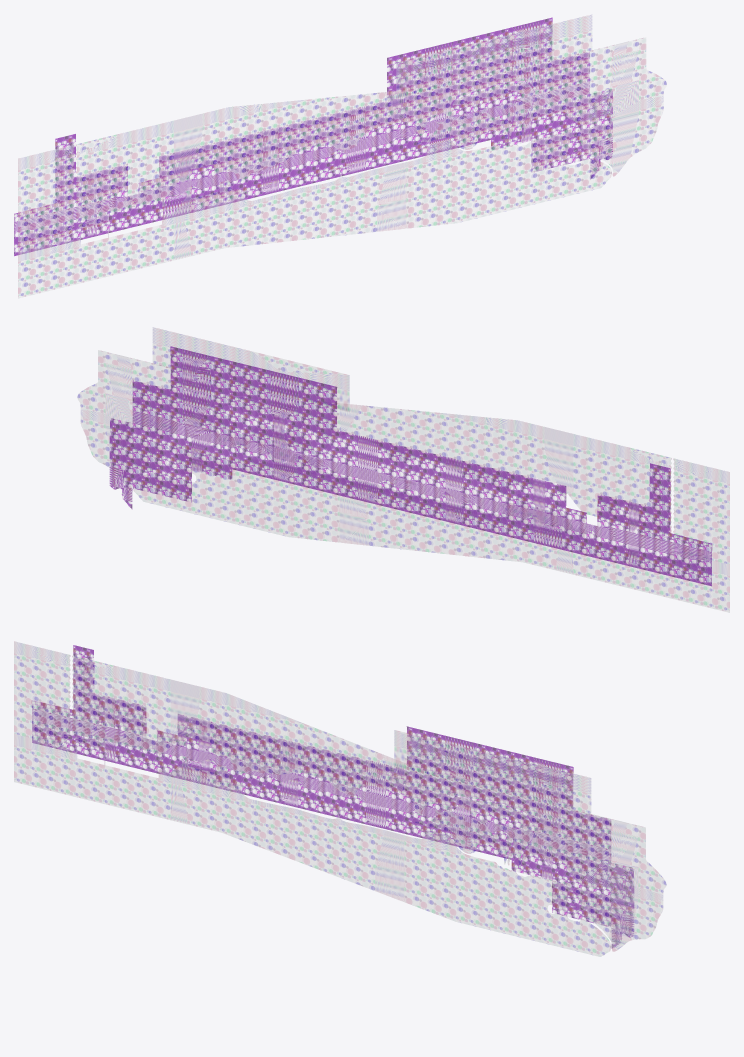
The model's file is tainai04.glb.
The picture shows the model from 3 angles, top to bottom: view 1: azimuth 30°, elevation 25°; view 2: azimuth 150°, elevation 25°; view 3: azimuth 330°, elevation 25°; orthographic projection.
Parts seen in each view (by area): view 1: tainai04; view 2: tainai04; view 3: tainai04.
Part boxes in pixels (x1,y1,x2,y2): tainai04: [14, 14, 666, 298]; tainai04: [77, 327, 729, 612]; tainai04: [14, 641, 666, 956].
Size of the model in its own units: 9787 by 3017 by 260.
Materials: 3 (3 with a texture image).
